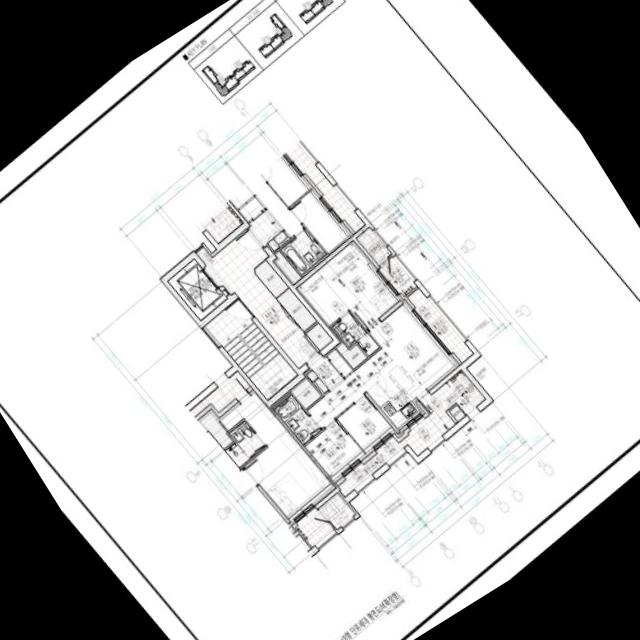background: (0, 0, 640, 640)
space_balconi: (338, 369, 485, 496), (408, 288, 473, 362), (379, 256, 416, 295)
space_bedroom: (296, 240, 402, 328), (305, 419, 366, 482), (337, 394, 396, 454)
space_elevator: (168, 259, 227, 319)
space_elevator_hall: (196, 228, 319, 367)
space_front: (303, 347, 354, 394)
space_kitchen: (366, 364, 424, 432)
space_living_room: (307, 300, 459, 428)
space_other: (276, 288, 316, 331), (255, 260, 288, 297), (290, 377, 321, 408), (335, 341, 367, 368), (306, 323, 332, 350), (449, 405, 465, 421)
space_outdoor_room: (356, 227, 391, 264)
space_staircase: (205, 300, 297, 399)
space_toilet: (274, 395, 320, 443), (332, 311, 379, 355)
